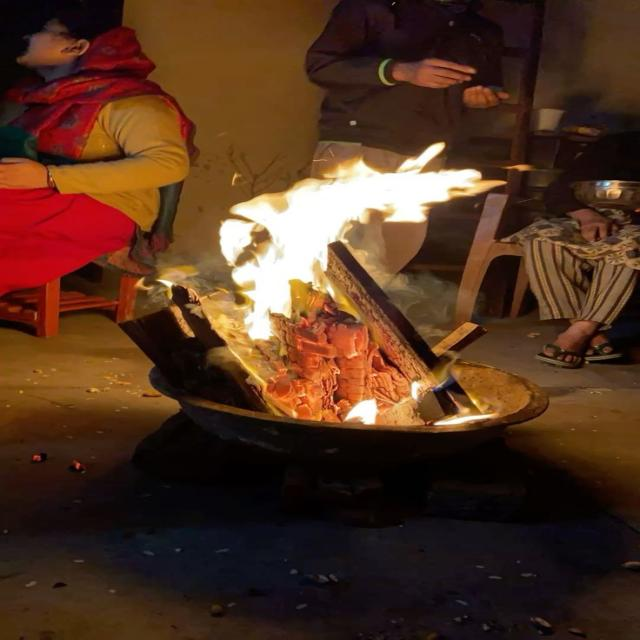fire: (219, 141, 506, 343)
